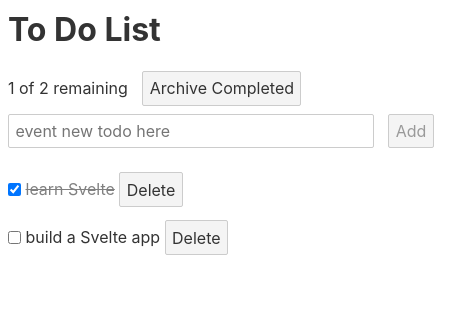
Test case: Todo app › should add todo
The width and height of the screenshot is (451, 320).
Expected: the text "1 of 2 remaining" is shown, [8,78,128,98]
Expected: the button "Add" is disabled, [388,114,433,149]
Type "buy milk" into the field with test id "todo-input" at (191, 132), box [8,114,374,149]
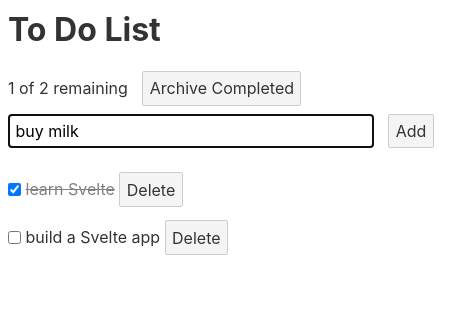
Expected: the text "Add" is enabled
Click the button "Add" at (411, 132), box [388,114,433,149]
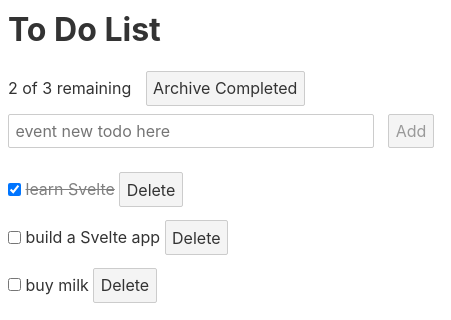
Result: the button "Add" is disabled at [388,114,433,149]
Result: the text "buy milk" is shown at [26,275,89,295]
Result: the text "2 of 3 remaining" is shown at [8,78,131,98]
